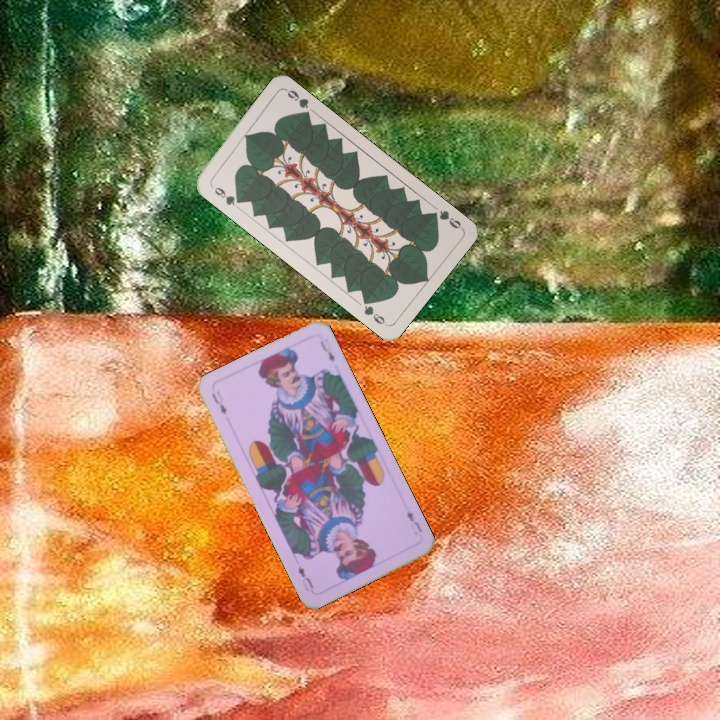EU: (402, 506, 425, 535), (208, 386, 229, 417)
G9: (206, 181, 244, 208), (426, 206, 465, 231)
